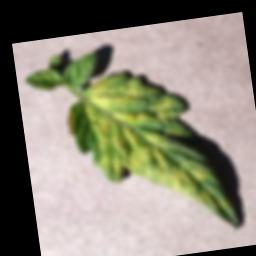Leaf_Mold: (61, 59, 239, 250)
